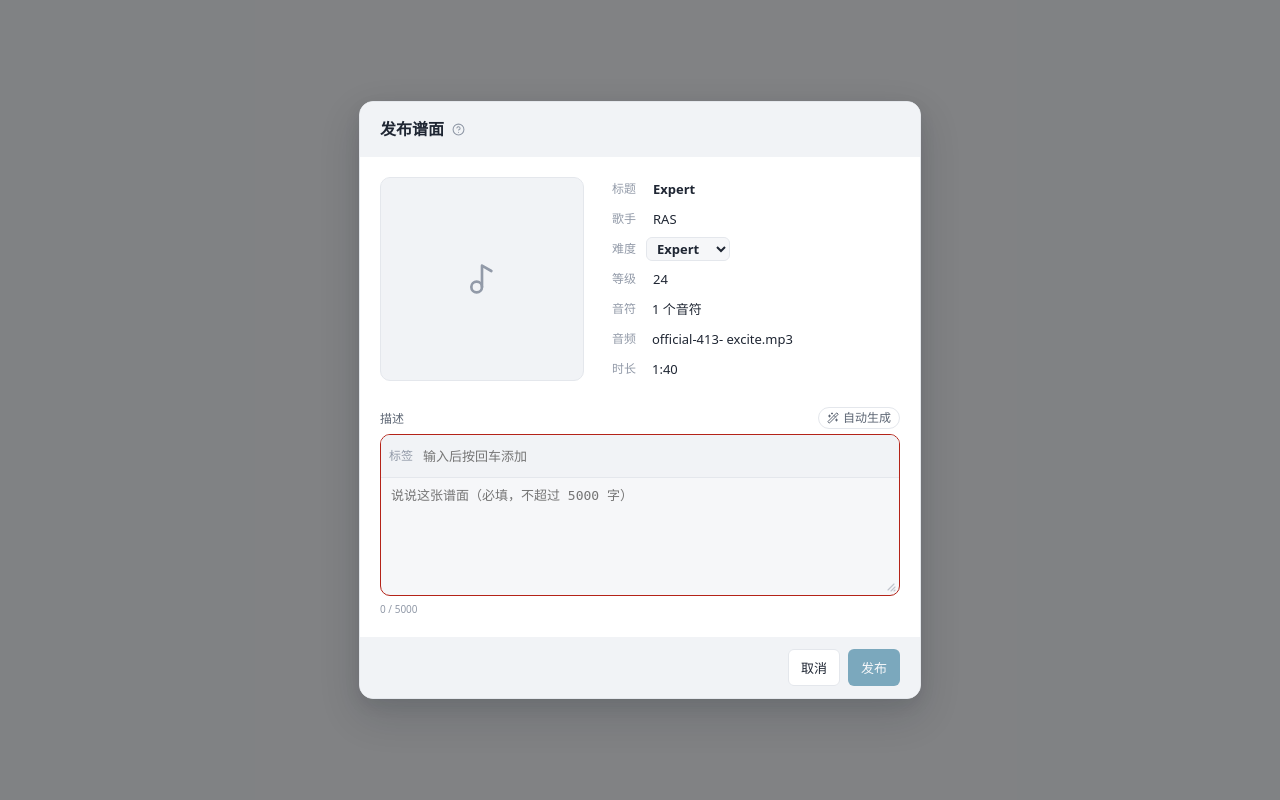
Test: 票 11 · 发布弹窗：必填预检与确认门 › 等级 28.5：就地缺项，发布键禁用（票 43）
Type "x" into the text box with placeholder "说说这张谱面（必填，不超过 5000 字）".
click(640, 536); type("x")  # box x1=381 y1=478 x2=899 y2=595
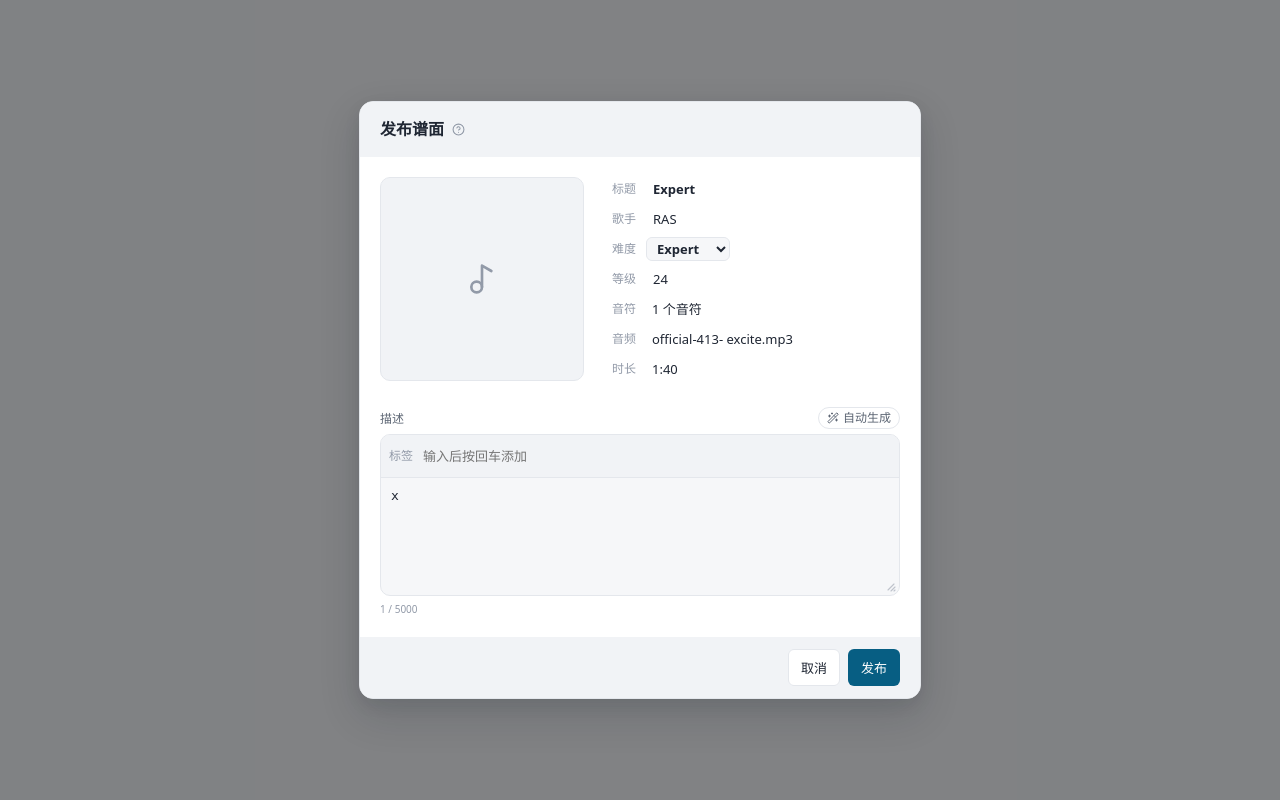
Replace the text in the field named "等级" with "28.5" at (670, 279), box x1=646 y1=267 x2=694 y2=291
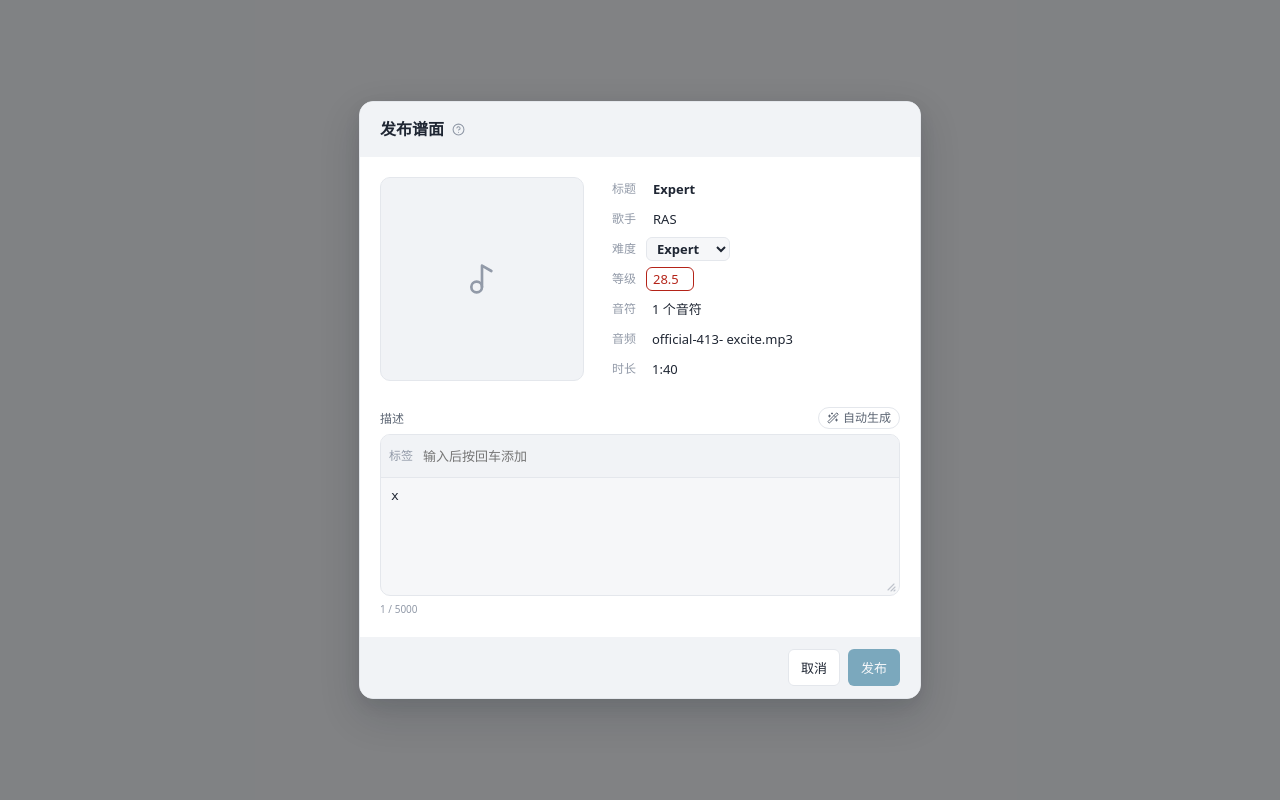
Result: the button "发布" is disabled at x1=848 y1=649 x2=900 y2=686
